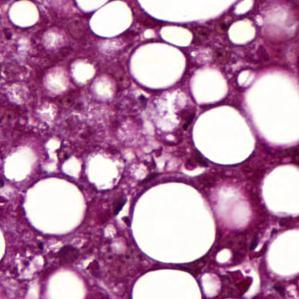steatosis: (134, 182, 216, 264), (24, 176, 88, 237), (129, 268, 203, 299), (262, 162, 299, 220)
